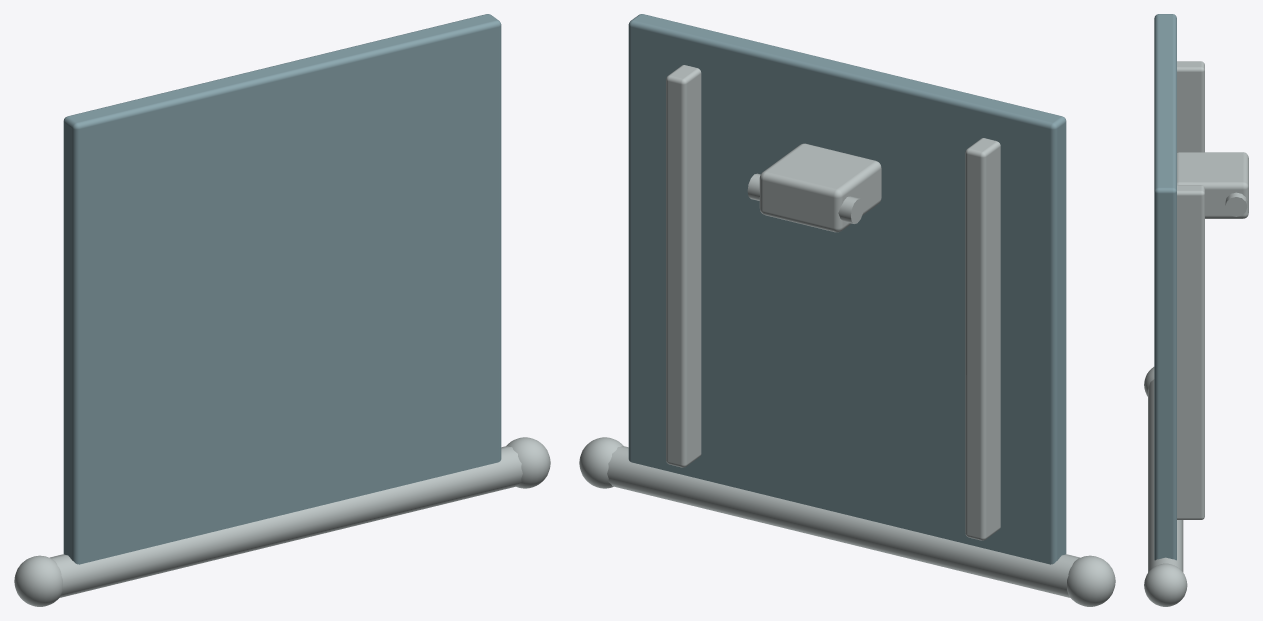
The model's file is abandoned-tidal-model-testing-hall-hinged-wavemaker-pa-e1ae59ed__32339.glb.
3 views of the same model, side by side, from view 1: azimuth 30°, elevation 25°; view 2: azimuth 150°, elevation 25°; view 3: azimuth 270°, elevation 25° (orthographic). The views are drawn at different scales.
Parts seen in each view (by area): view 1: hinged-wavemaker-paddle; view 2: hinged-wavemaker-paddle; view 3: hinged-wavemaker-paddle.
Boxes of the visible parts, x1=… form: hinged-wavemaker-paddle: x1=14, y1=14, x2=550, y2=606; hinged-wavemaker-paddle: x1=579, y1=14, x2=1115, y2=606; hinged-wavemaker-paddle: x1=1144, y1=14, x2=1248, y2=606.
Size of the model in its own units: 1.03 by 0.883 by 0.208.
